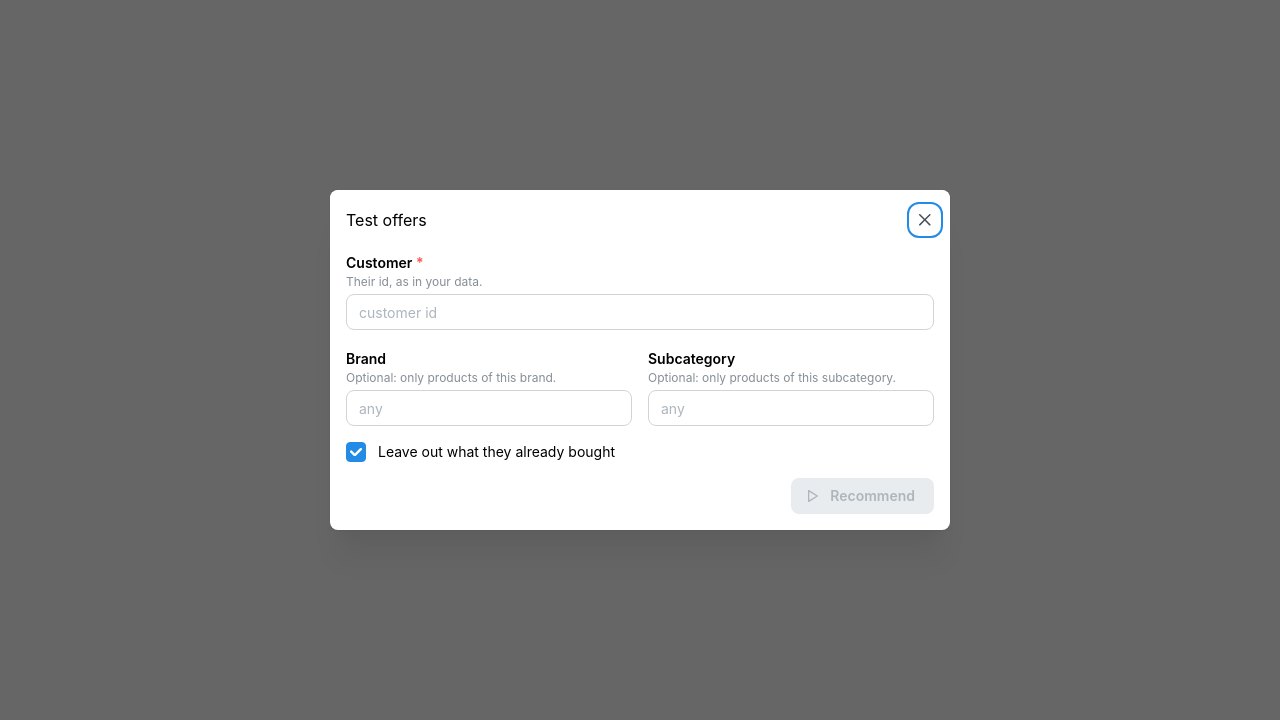
Test: Trying a scenario model › asks the old predict route when the server has no recommend route
This screenshot has width=1280, height=720.
Step 1. Type "c-1" into the field labelled "Customer *" → {"x": 640, "y": 312}, box [346,294,934,330]
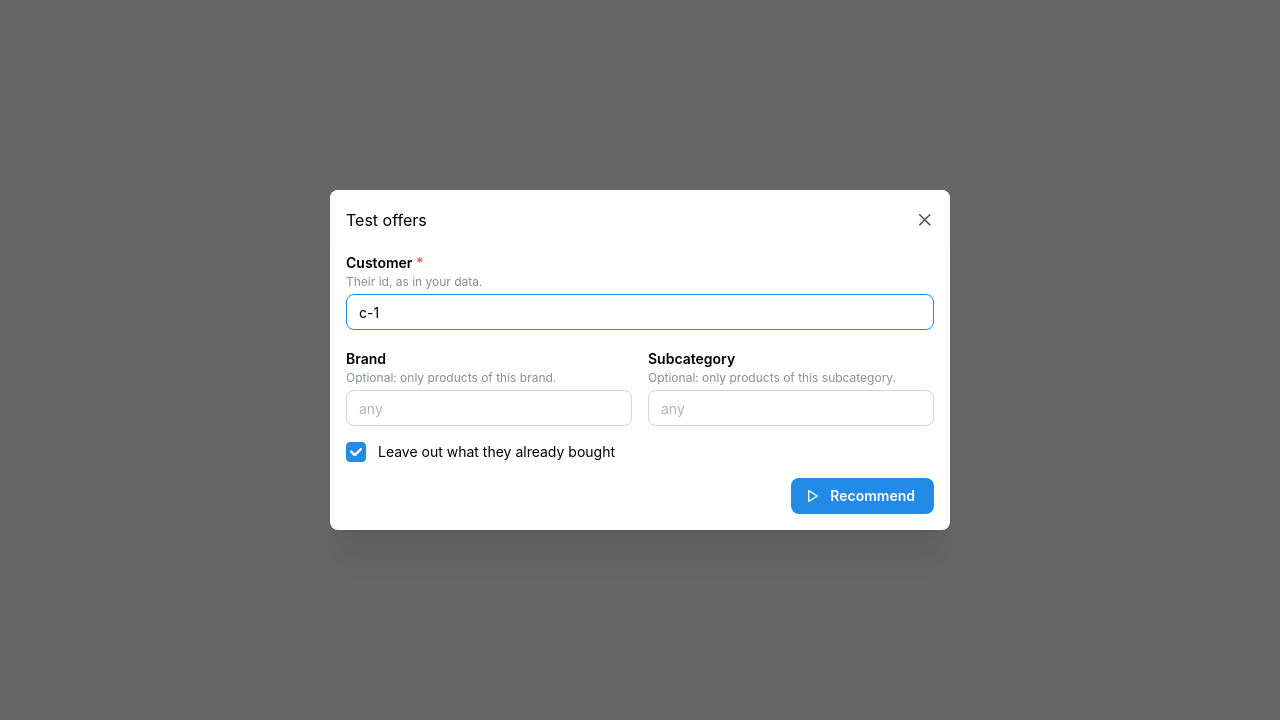
Step 2. Click the button "Recommend" → {"x": 863, "y": 496}, box [791,478,934,514]
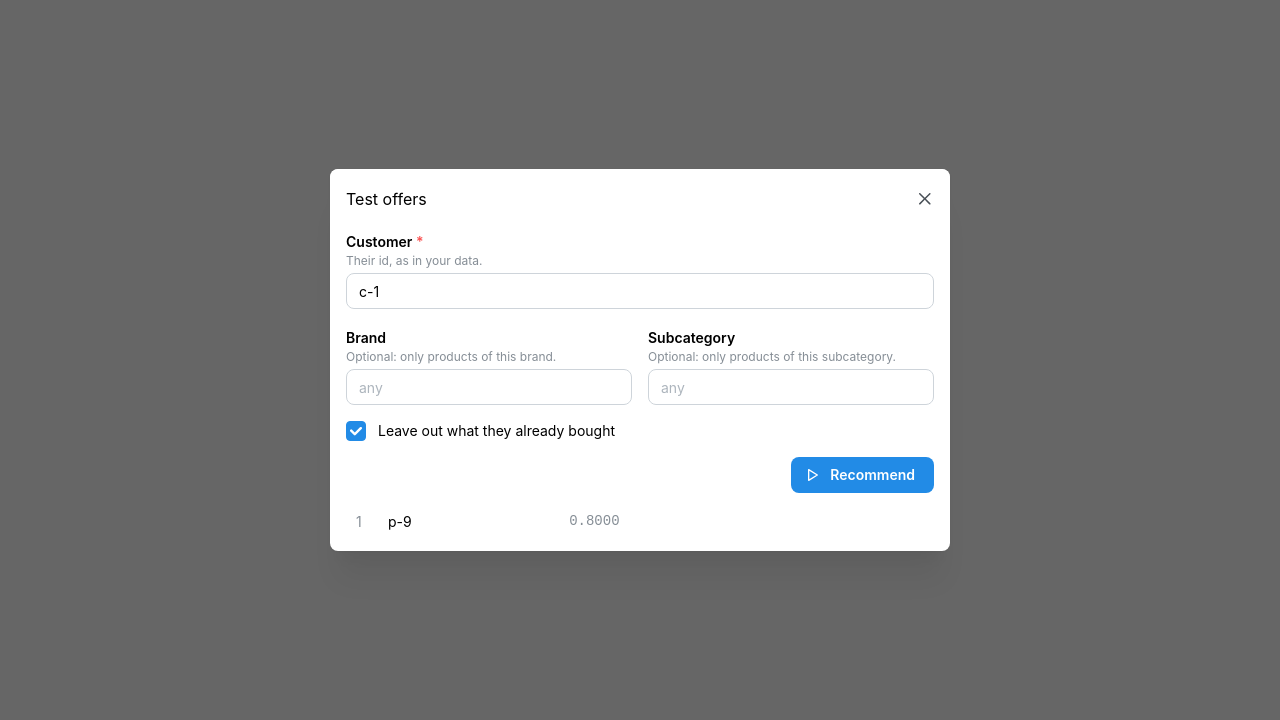
Now the text "p-9" is shown, box [378,509,559,535]
